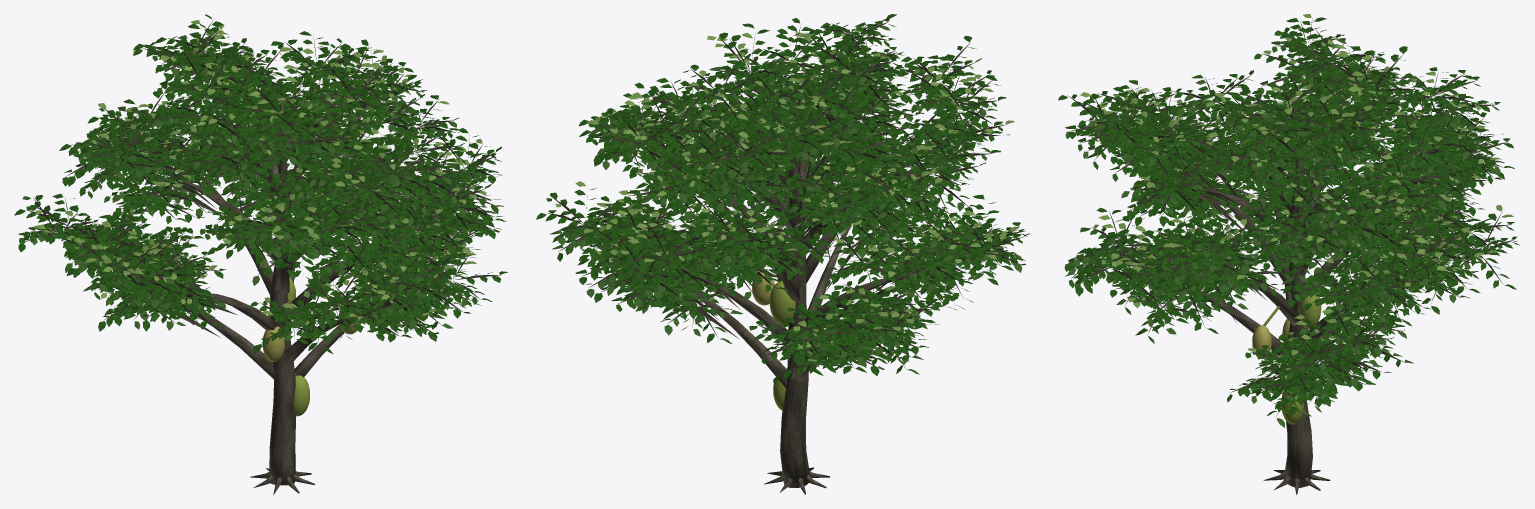
The model's file is KL_LS_Jackfruit_Tree_LOD2.gltf.
The picture shows the model from 3 angles, left to right: view 1: azimuth 30°, elevation 25°; view 2: azimuth 150°, elevation 25°; view 3: azimuth 270°, elevation 25°; orthographic projection. The views are drawn at different scales.
Visible parts, largest first — view 1: TF3_KL_LS_Jackfruit_Tree_LOD2; view 2: TF3_KL_LS_Jackfruit_Tree_LOD2; view 3: TF3_KL_LS_Jackfruit_Tree_LOD2.
Boxes of the visible parts, x1,y1,x2,y2 form: TF3_KL_LS_Jackfruit_Tree_LOD2: [14, 14, 507, 494]; TF3_KL_LS_Jackfruit_Tree_LOD2: [536, 14, 1029, 494]; TF3_KL_LS_Jackfruit_Tree_LOD2: [1058, 14, 1519, 494].
Bounding box in the file's own units: 9.36 × 8.41 × 8.6.
Materials: 7 (2 with a texture image).
